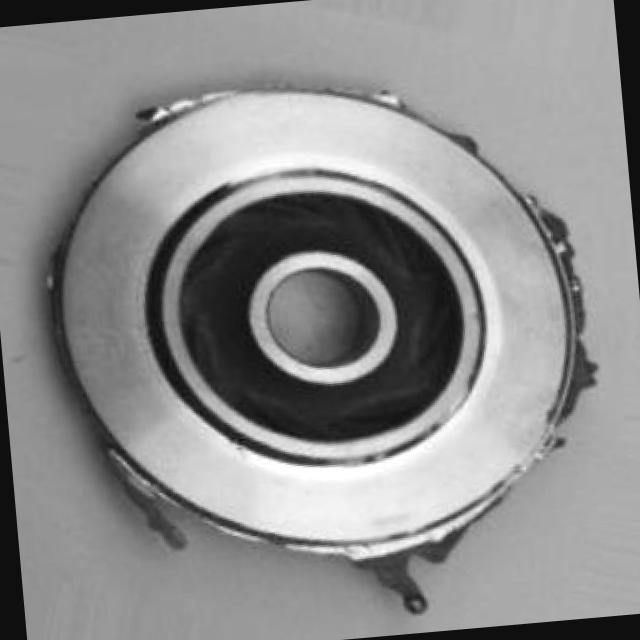Defect: (530, 193, 584, 274)
